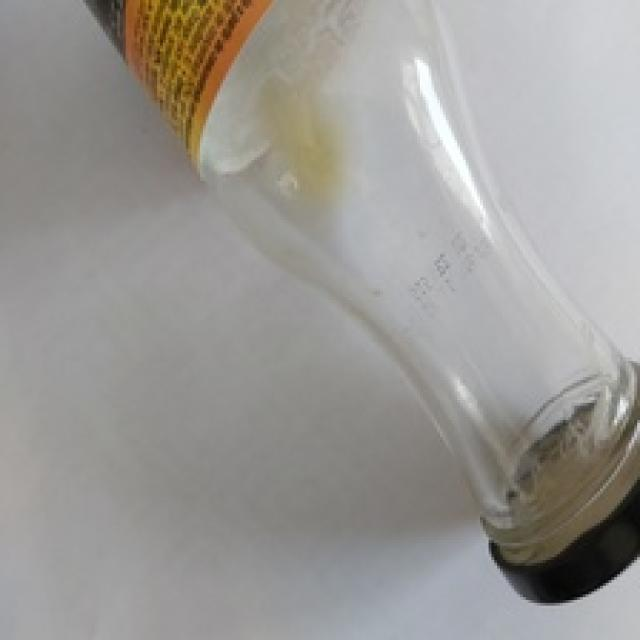Glass: (85, 0, 640, 564)
